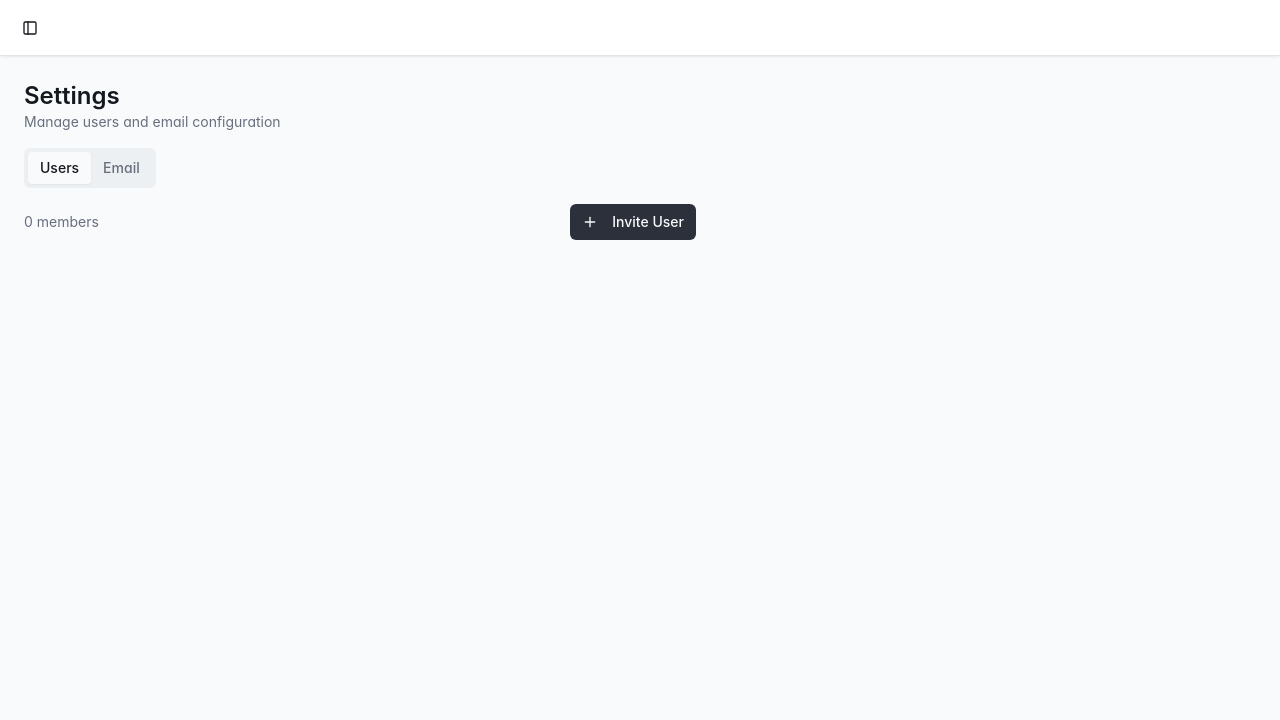
Test: Settings page › opens Invite User dialog
The image size is (1280, 720).
Check: the heading "Settings" is shown, box [24, 81, 120, 110]
Click the button "Invite User": coordinates (633, 222) [570, 204, 696, 240]
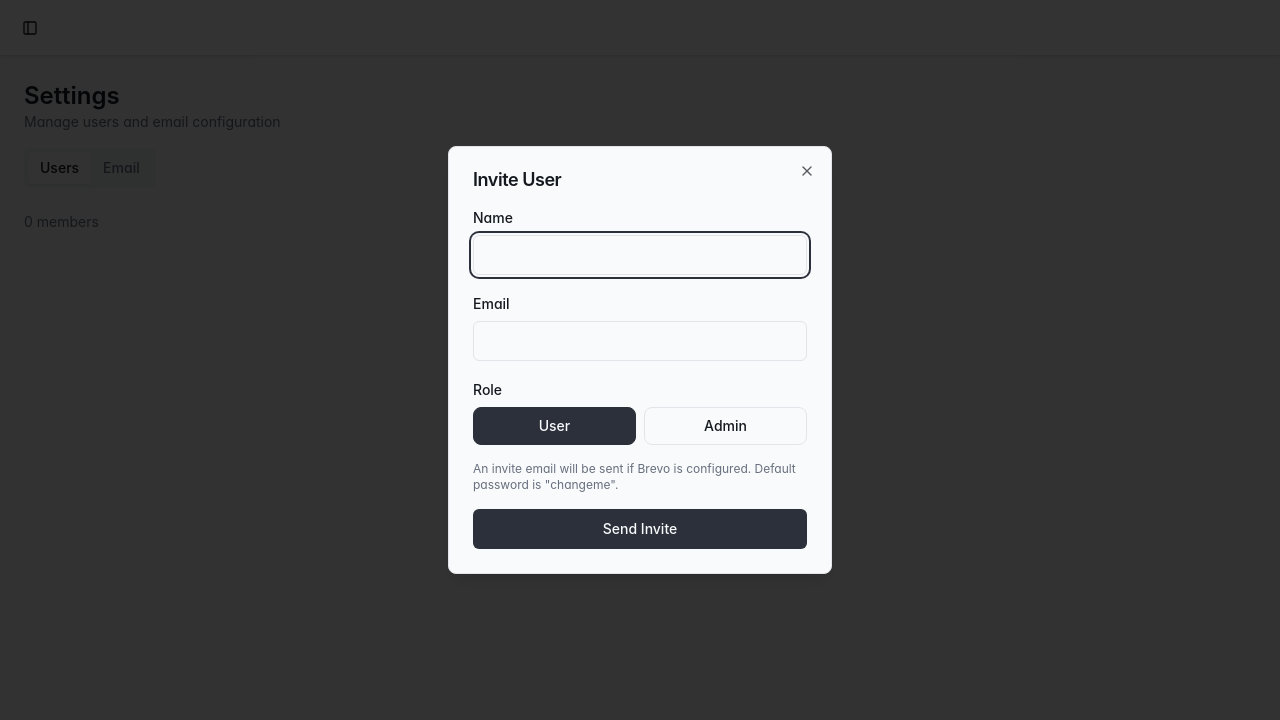
Check: the dialog is shown, box [448, 146, 832, 574]
